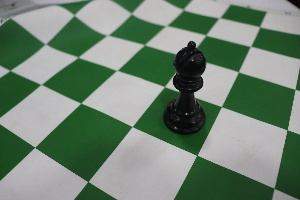black_bishop: (162, 29, 212, 138)
